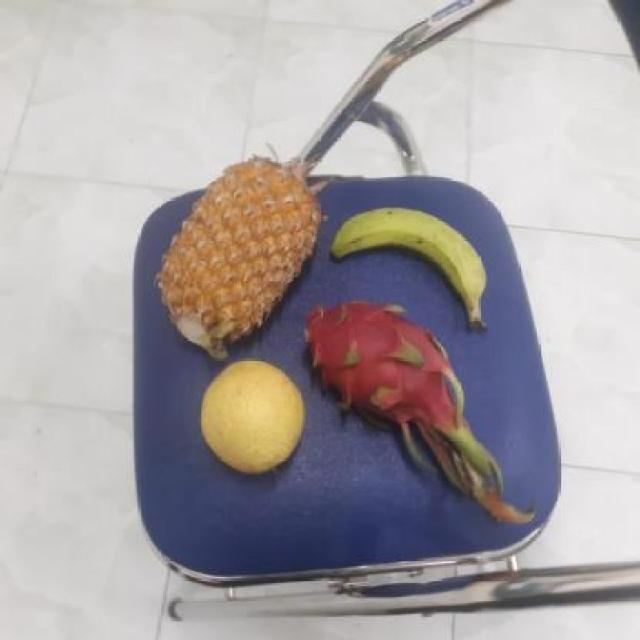banana: (321, 207, 487, 316)
dragon fruit: (294, 301, 464, 445)
guava: (192, 359, 306, 476)
pear: (194, 359, 308, 476)
pineapple: (152, 156, 320, 356)
